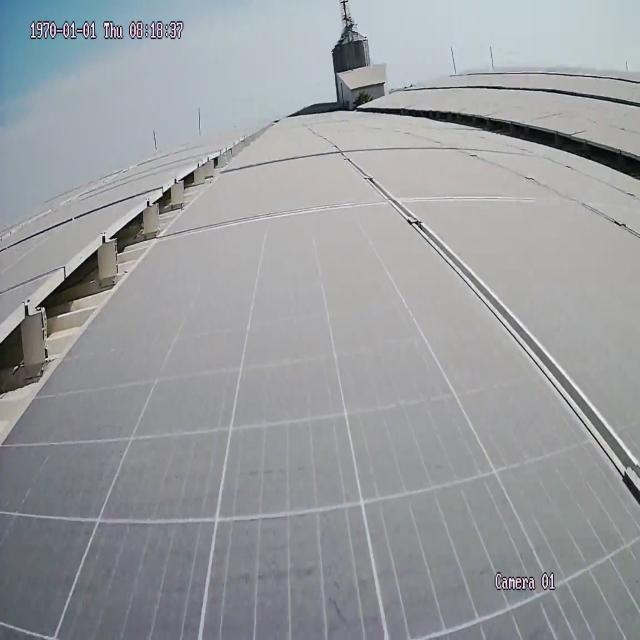interior panel: (343, 155, 637, 505)
outher panel: (0, 130, 259, 450), (402, 109, 640, 189)
